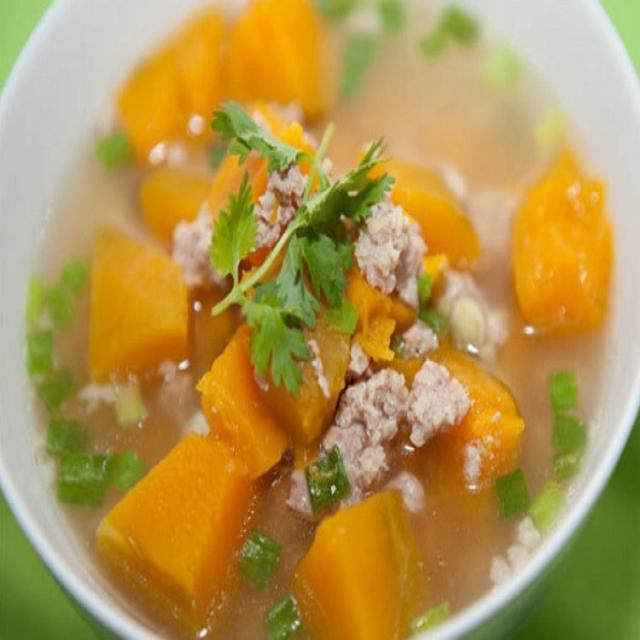canh bi do: (27, 0, 617, 639)
